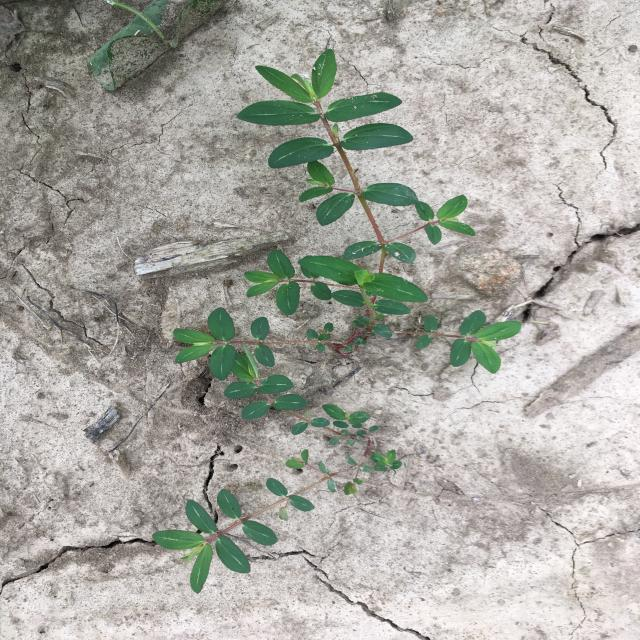SpottedSpurge: (173, 49, 522, 381), (151, 343, 402, 594)
